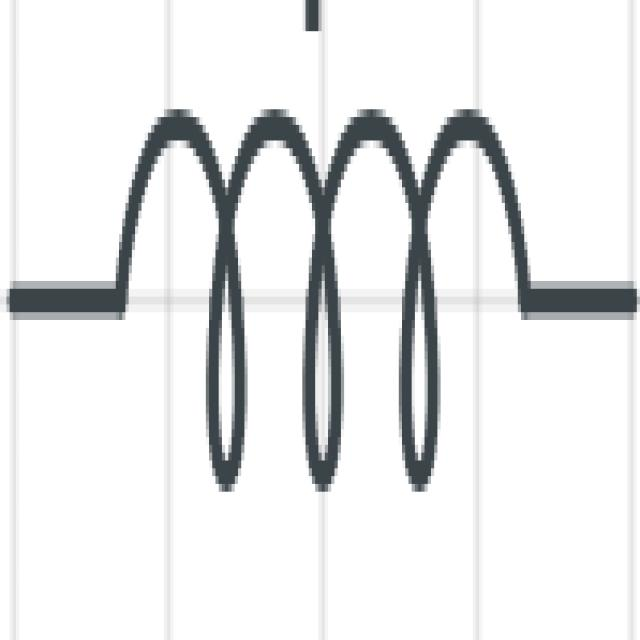inductor: (13, 37, 636, 570)
